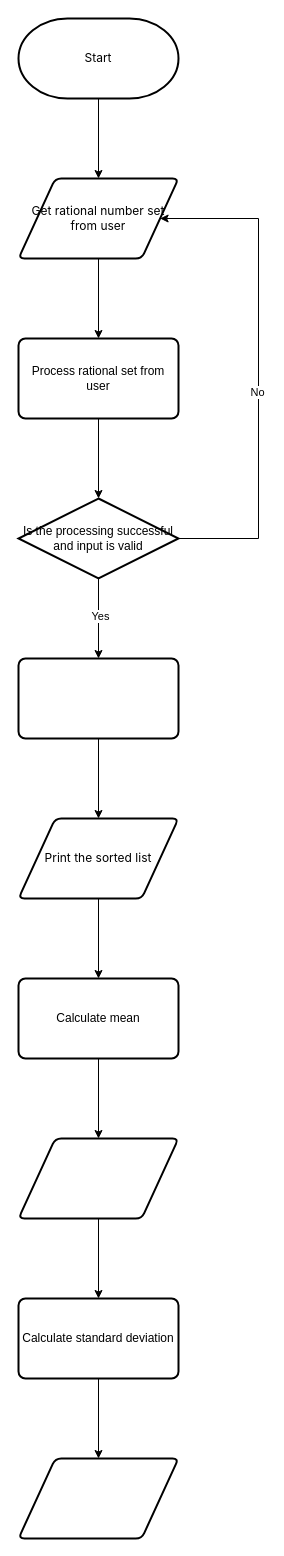
The diagram is 284 pixels wide and 1556 high, and some of its shapes have lost their labels. Here are the shapes that lost their labels. From the top down, the centre of each, then its label:
At point 98,698: "Sort the processed list".
At point 98,1178: "Print mean".
At point 98,1498: "Print standard deviation".
